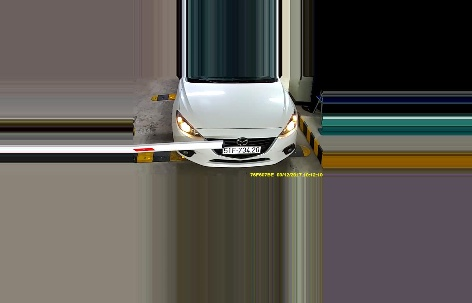plate: (219, 144, 261, 156)
